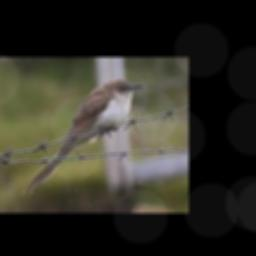Cuckoo: (22, 79, 143, 194)
